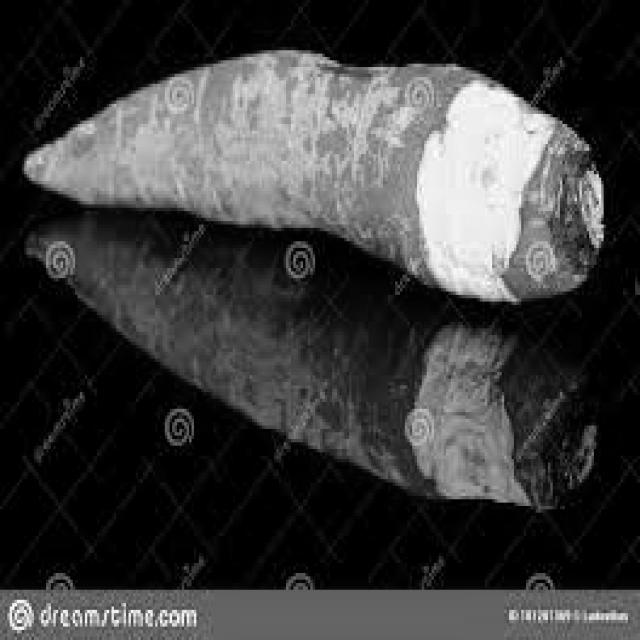Stale_Carrot: (25, 55, 604, 301)
